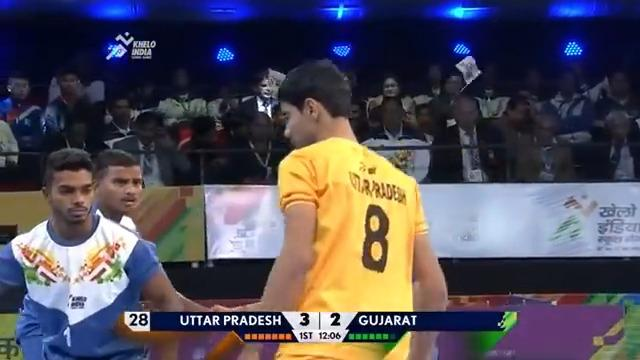Player: (0, 146, 246, 359), (98, 129, 154, 224)
Raider: (210, 57, 450, 357)
